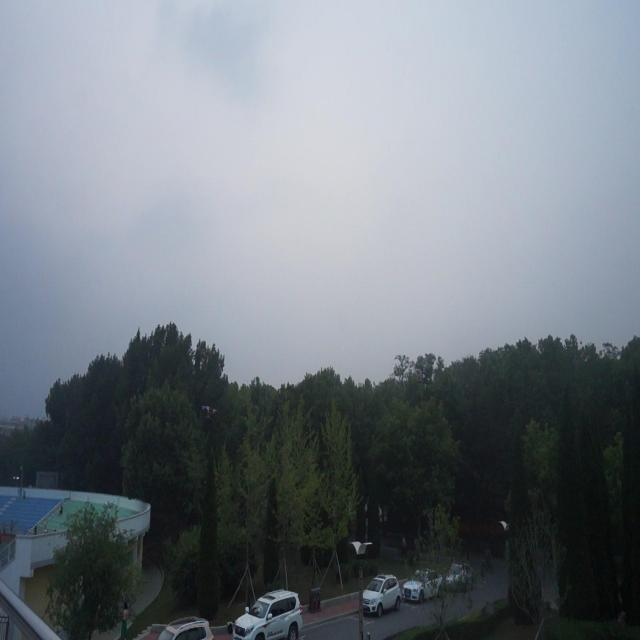UAV: (201, 405, 218, 419)
